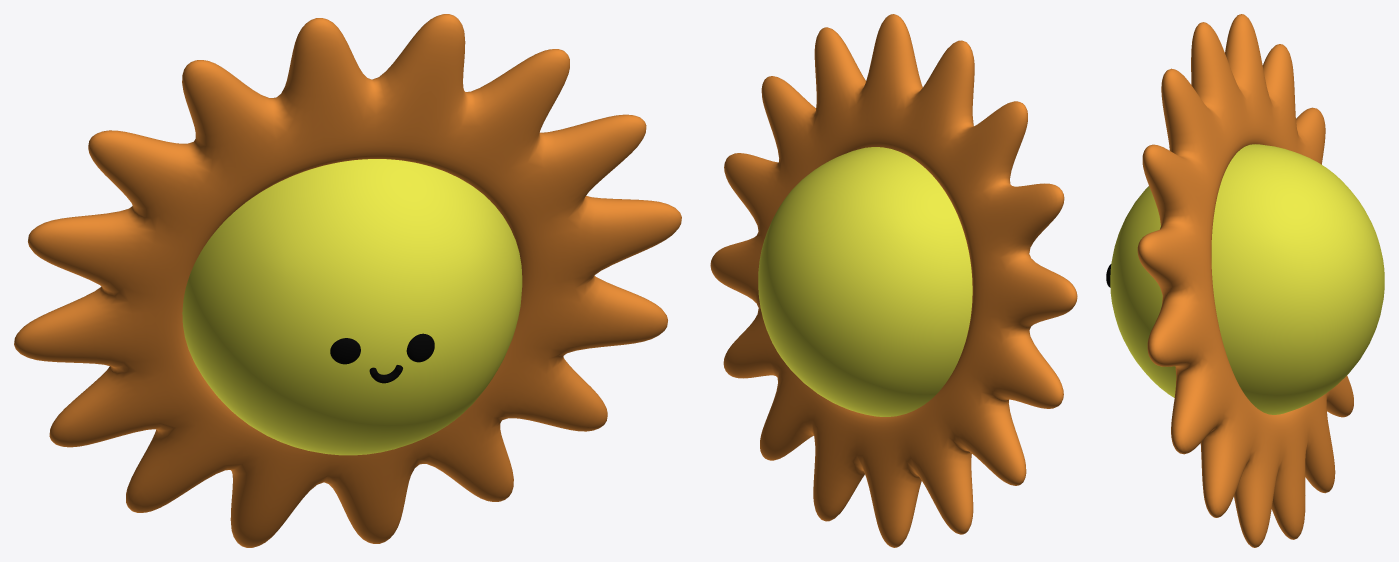
The model's file is sun.gltf.
3 views of the same model, side by side, from view 1: azimuth 30°, elevation 25°; view 2: azimuth 150°, elevation 25°; view 3: azimuth 270°, elevation 25° (orthographic). The views are drawn at different scales.
Parts seen in each view (by area): view 1: Cube.001, Roundcube; view 2: Cube.001, Roundcube; view 3: Cube.001, Roundcube.
Boxes of the visible parts, box(x1,y1,x2,y2) form: Cube.001: box(14, 14, 681, 547); Roundcube: box(182, 159, 522, 455); Cube.001: box(710, 14, 1077, 547); Roundcube: box(758, 147, 972, 416); Cube.001: box(1137, 14, 1353, 547); Roundcube: box(1110, 144, 1384, 414).
Size of the model in its own units: 1.77 by 1.83 by 0.9823.
